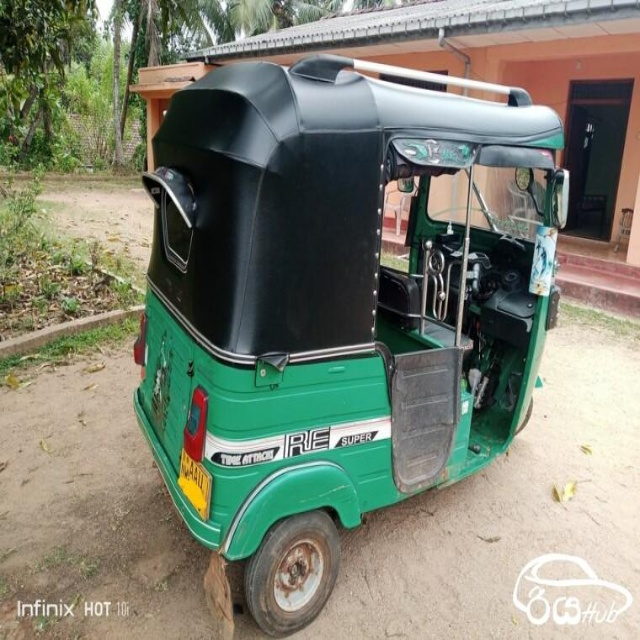Motorcycle: (132, 54, 570, 640)
